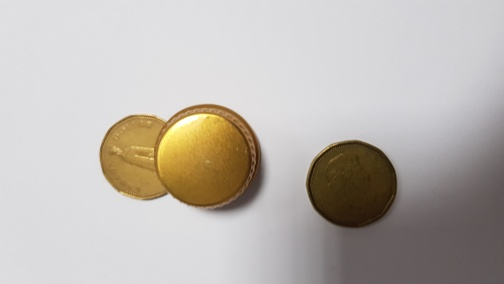coin: (305, 139, 398, 229), (99, 113, 169, 202)
